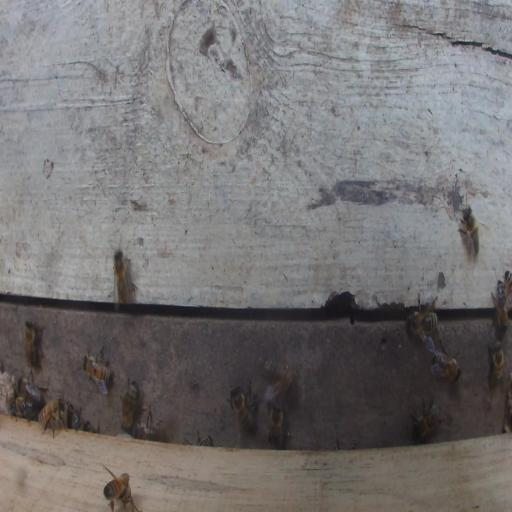bee: (112, 247, 136, 311), (257, 357, 296, 394), (104, 472, 132, 511), (83, 355, 113, 391), (230, 389, 255, 431), (39, 402, 68, 438), (413, 404, 438, 444), (120, 382, 139, 432), (433, 350, 461, 382), (18, 376, 44, 408), (462, 209, 480, 255), (408, 310, 437, 338), (268, 401, 284, 450), (495, 279, 509, 331), (24, 319, 36, 369), (9, 396, 35, 419), (134, 423, 165, 442), (491, 340, 503, 389), (505, 271, 512, 305), (196, 436, 211, 447)
